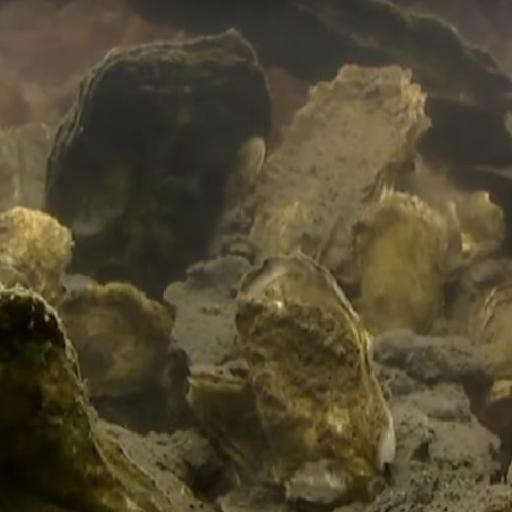Oyster-Closed: (236, 251, 391, 505), (1, 289, 171, 512), (52, 288, 178, 401), (358, 189, 448, 343), (1, 204, 81, 289)
Oyster-Open: (50, 32, 277, 295), (246, 63, 431, 265), (210, 423, 258, 467)
